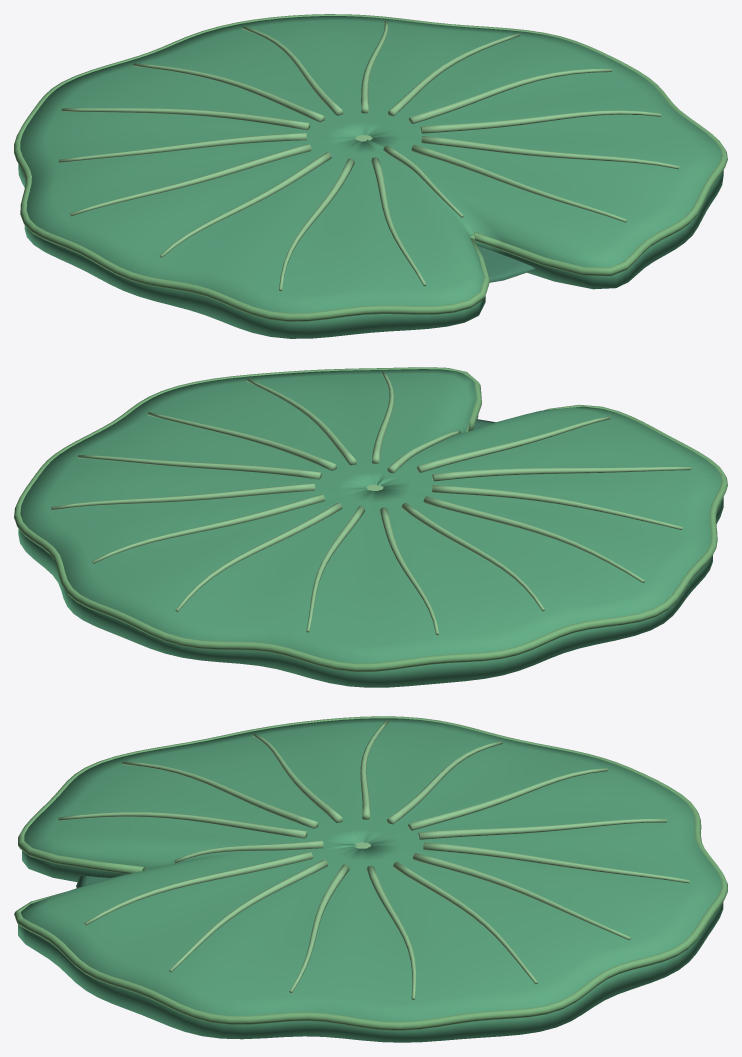
The model's file is lotus_pad_01.glb.
3 renders of one model, top to bottom at view 1: azimuth 30°, elevation 25°; view 2: azimuth 150°, elevation 25°; view 3: azimuth 270°, elevation 25°, orthographic. The views are drawn at different scales.
Parts seen in each view (by area): view 1: leaf_satin_green_SeatRoot_object, leaf_vein_sage_SeatRoot_object, leaf_edge_lime_SeatRoot_object, leaf_underside_jade_SeatRoot_object; view 2: leaf_satin_green_SeatRoot_object, leaf_vein_sage_SeatRoot_object, leaf_edge_lime_SeatRoot_object; view 3: leaf_satin_green_SeatRoot_object, leaf_vein_sage_SeatRoot_object, leaf_edge_lime_SeatRoot_object.
Part boxes in pixels (<box>): leaf_satin_green_SeatRoot_object: <box>18,16,723,338</box>; leaf_vein_sage_SeatRoot_object: <box>58,20,679,291</box>; leaf_edge_lime_SeatRoot_object: <box>14,14,727,321</box>; leaf_underside_jade_SeatRoot_object: <box>477,245,535,282</box>; leaf_satin_green_SeatRoot_object: <box>18,369,723,687</box>; leaf_vein_sage_SeatRoot_object: <box>51,371,691,635</box>; leaf_edge_lime_SeatRoot_object: <box>14,367,727,672</box>; leaf_satin_green_SeatRoot_object: <box>18,718,723,1042</box>; leaf_vein_sage_SeatRoot_object: <box>58,720,689,1000</box>; leaf_edge_lime_SeatRoot_object: <box>14,716,727,1030</box>.
Bounding box in the file's own units: 2.09 × 0.4521 × 2.04.
